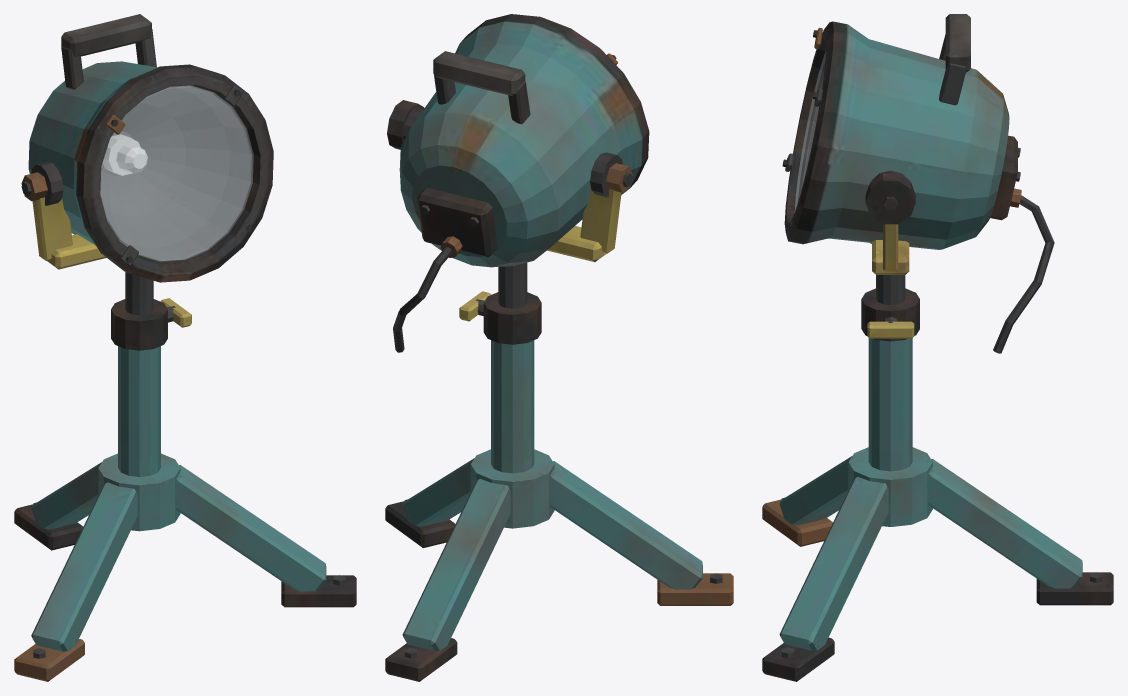
File: U08_industrial_spotlight.glb
3 renders of one model, left to right at view 1: azimuth 30°, elevation 25°; view 2: azimuth 150°, elevation 25°; view 3: azimuth 270°, elevation 25°, orthographic. The views are drawn at different scales.
Parts seen in each view (by area): view 1: Skid shoe; view 2: Skid shoe; view 3: Skid shoe.
Boxes of the visible parts, x1,y1,x2,y2 form: Skid shoe: (14, 14, 356, 681); Skid shoe: (385, 14, 733, 681); Skid shoe: (762, 14, 1113, 681).
Bounding box in the file's own units: 0.518 × 0.8 × 0.4502.
8 materials, 7 textured.
